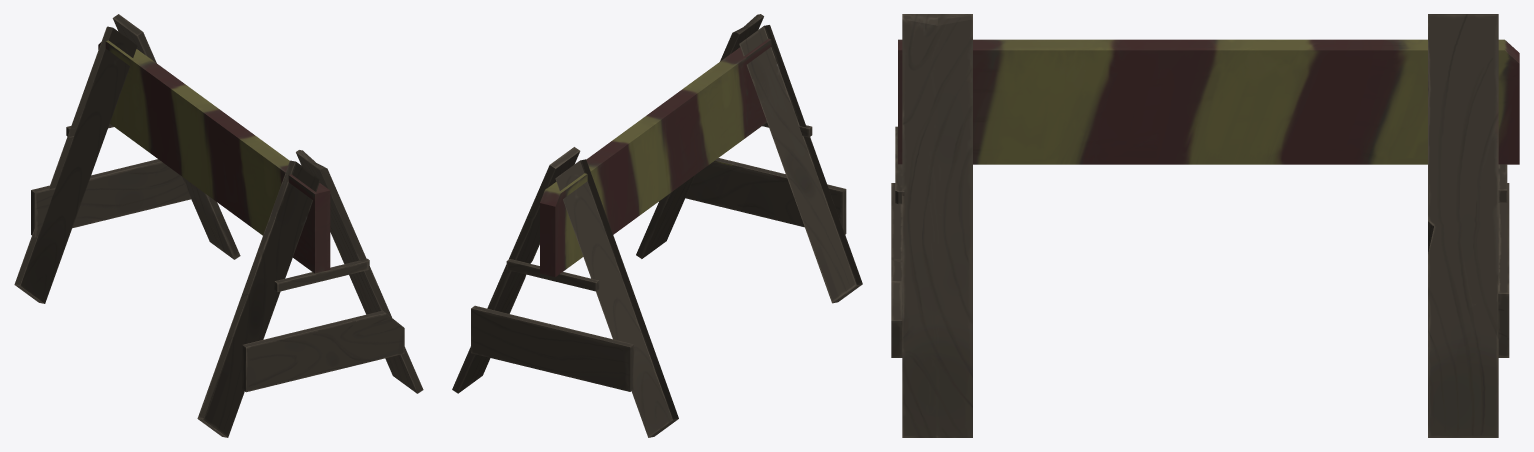
Rendered from valla1.glb.
3 views of the same model, side by side, from view 1: azimuth 30°, elevation 25°; view 2: azimuth 150°, elevation 25°; view 3: azimuth 270°, elevation 25° (orthographic). The views are drawn at different scales.
Parts seen in each view (by area): view 1: Cube; view 2: Cube; view 3: Cube.
Boxes of the visible parts, box(x1,y1,x2,y2) form: Cube: box(14, 14, 423, 437); Cube: box(452, 14, 862, 437); Cube: box(891, 14, 1519, 437).
Bounding box in the file's own units: 1.1 × 1.3 × 2.06.
Materials: 1 (1 with a texture image).
